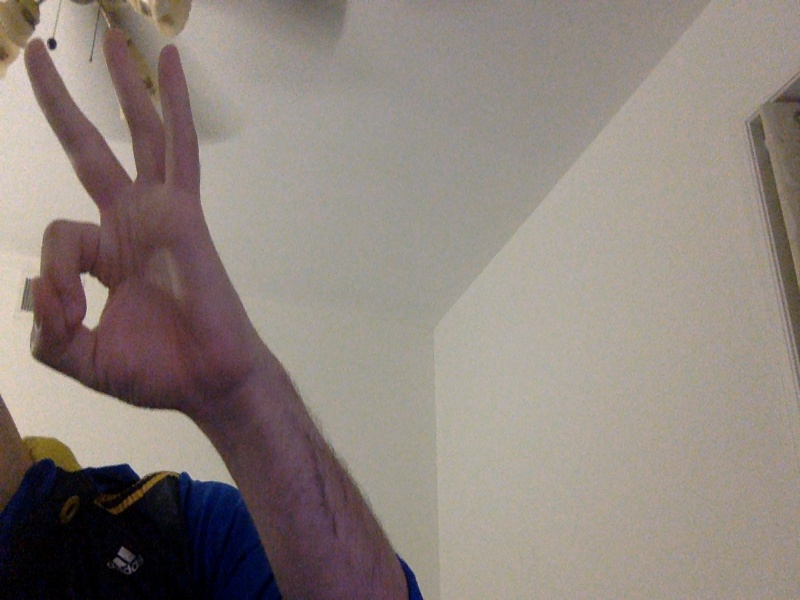3-hand: (27, 30, 245, 417)
